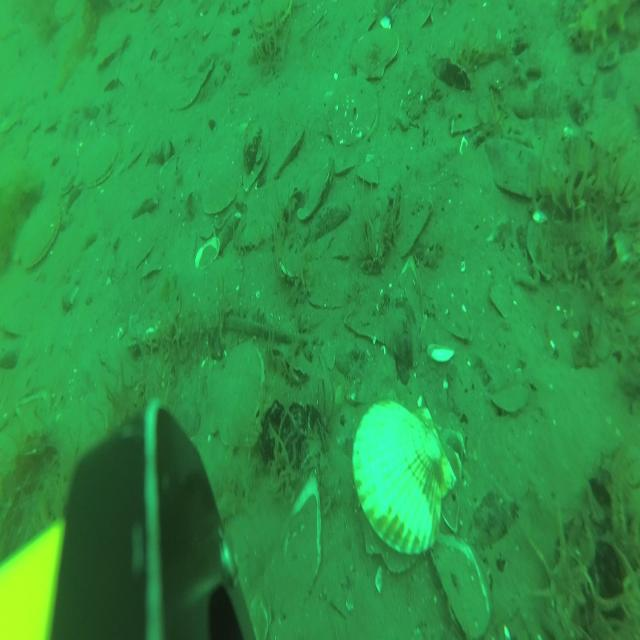scallop: (352, 392, 458, 568), (202, 341, 265, 454), (322, 74, 379, 147), (202, 143, 245, 218), (15, 204, 62, 269), (352, 22, 400, 84), (76, 133, 119, 193), (298, 160, 332, 222), (272, 120, 305, 177), (252, 0, 294, 36), (493, 382, 531, 419), (335, 148, 357, 178), (357, 158, 381, 184)
